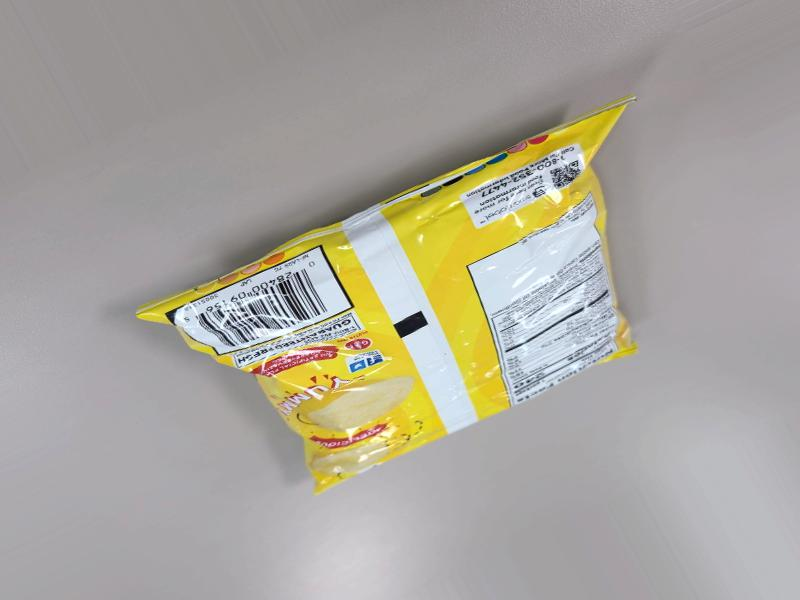lays: (165, 133, 650, 490)
